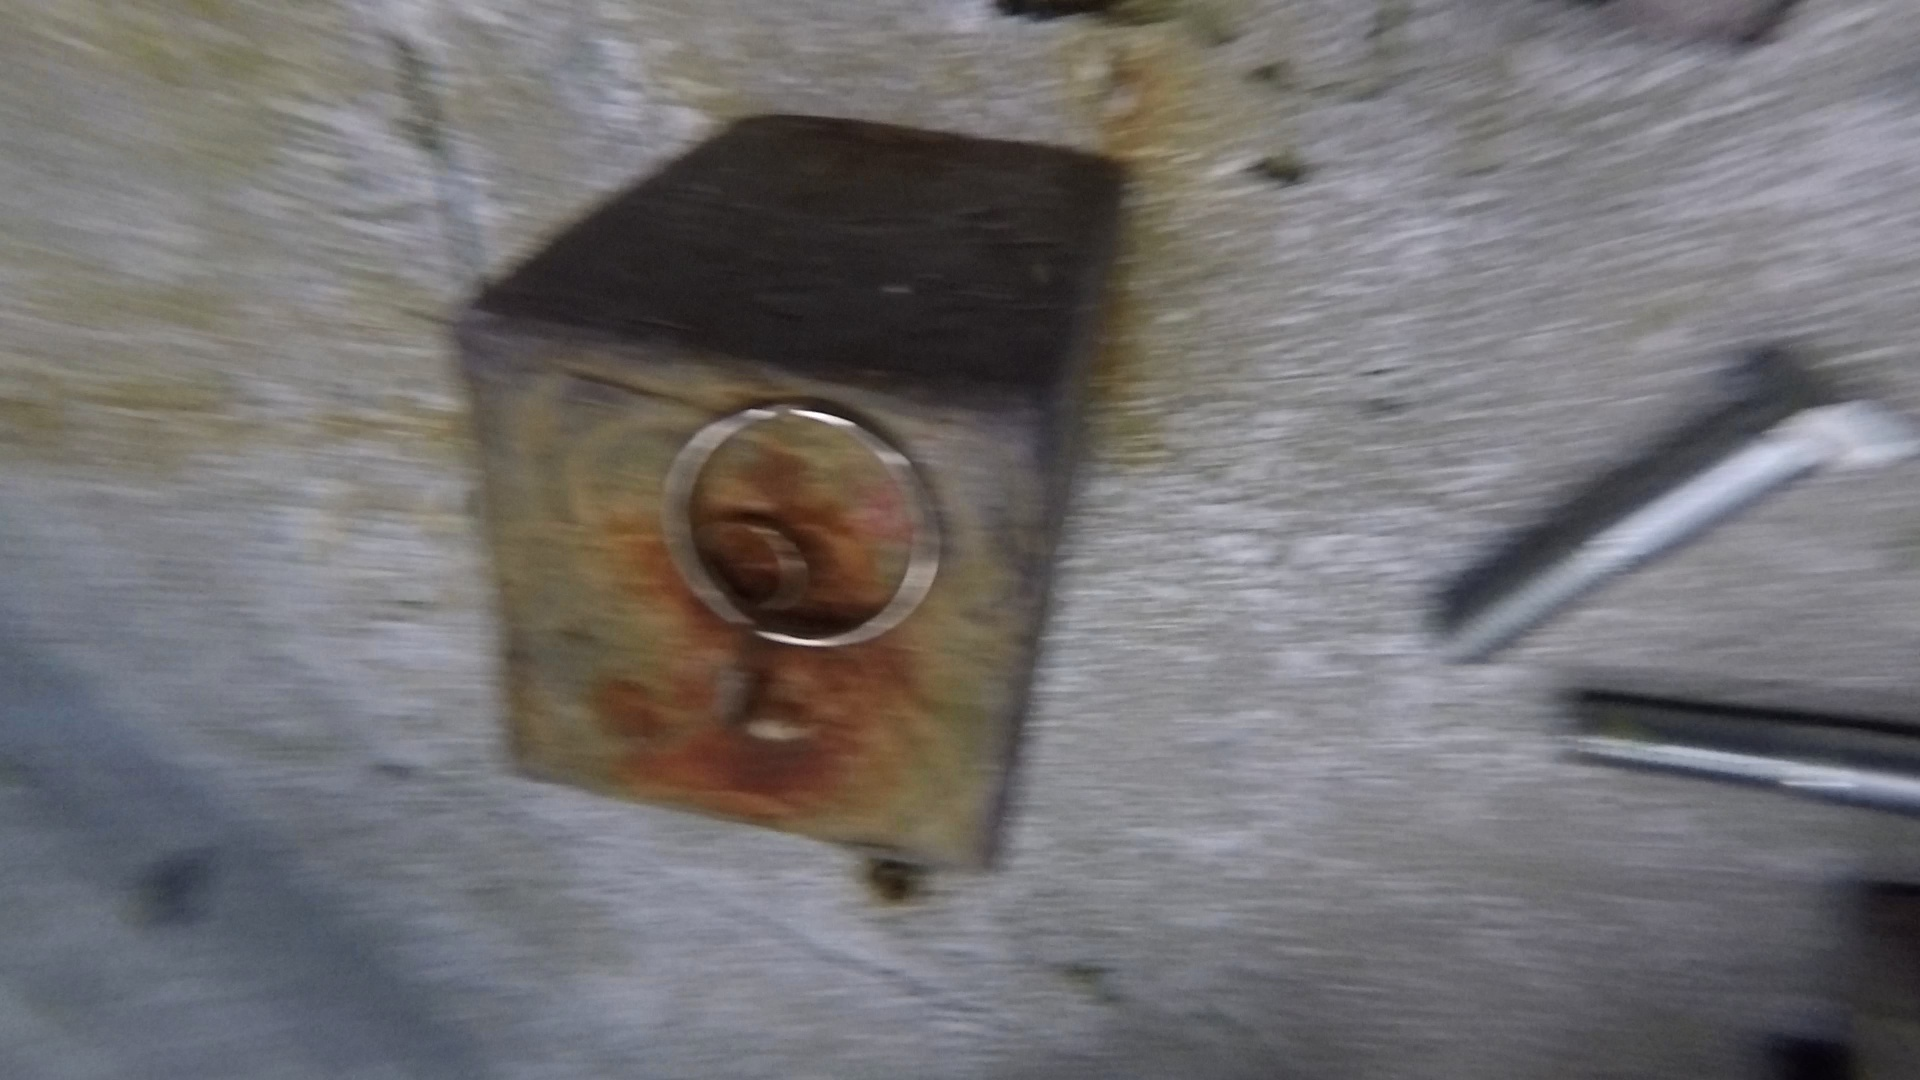bolt: (1422, 345, 1888, 662), (1563, 687, 1920, 851)
led_block: (465, 112, 1124, 874)
